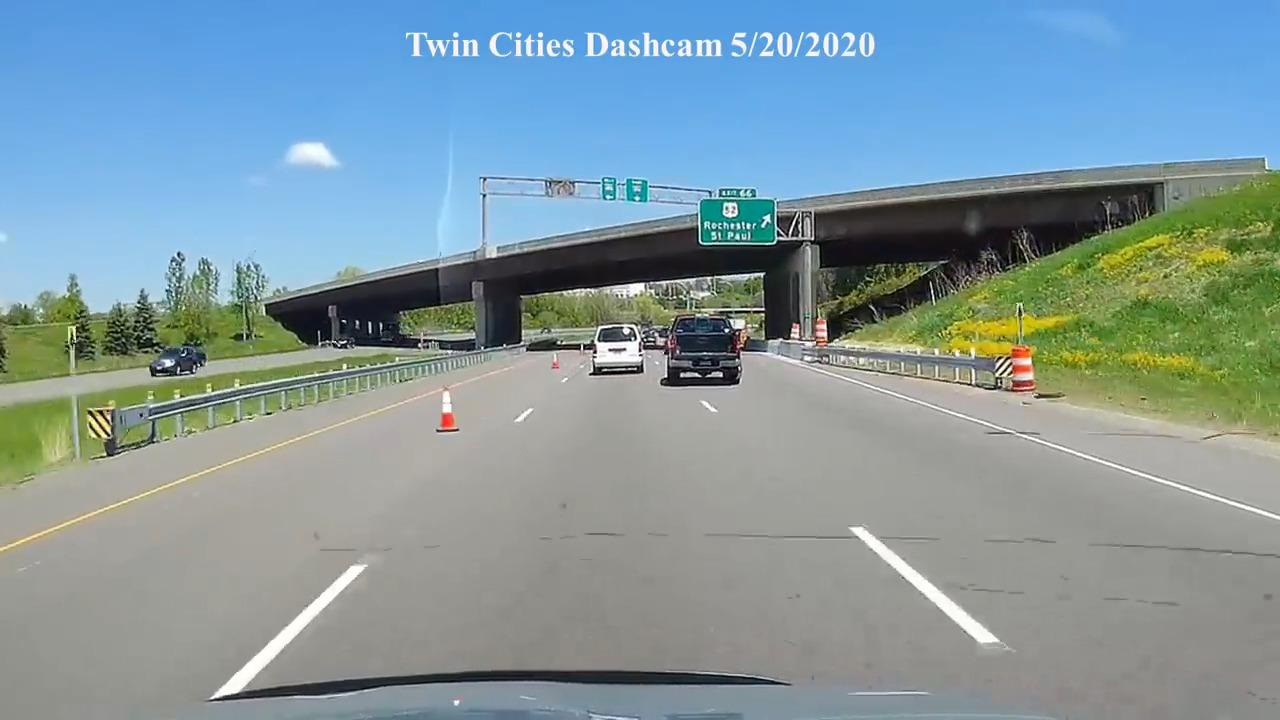car: (662, 313, 743, 386), (590, 322, 645, 375), (149, 345, 207, 378)
traffic cone: (1009, 345, 1037, 393), (435, 386, 460, 434), (814, 317, 829, 348), (550, 349, 562, 371), (790, 321, 800, 340), (551, 353, 561, 370)
